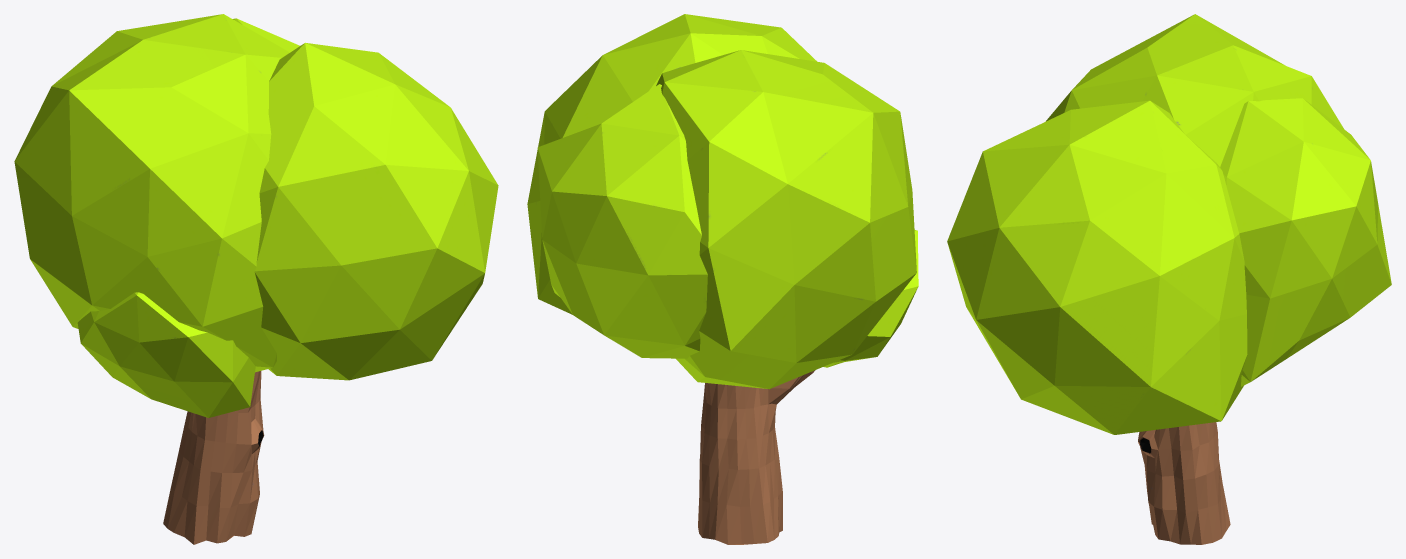
The model's file is Apple-tree.fbx.
The picture shows the model from 3 angles, left to right: view 1: azimuth 30°, elevation 25°; view 2: azimuth 150°, elevation 25°; view 3: azimuth 270°, elevation 25°; orthographic projection. The views are drawn at different scales.
Parts seen in each view (by area): view 1: node_id6, node_id4; view 2: node_id6, node_id4; view 3: node_id6, node_id4.
Boxes of the visible parts, left/top/right/bottom form: node_id6: left=14, top=14, right=498, bottom=417; node_id4: left=163, top=371, right=264, bottom=544; node_id6: left=527, top=14, right=918, bottom=389; node_id4: left=698, top=370, right=815, bottom=544; node_id6: left=947, top=14, right=1391, bottom=434; node_id4: left=1138, top=422, right=1230, bottom=544.
Bounding box in the file's own units: 0.4451 × 0.5074 × 0.4411.
2 materials, 2 textured.
